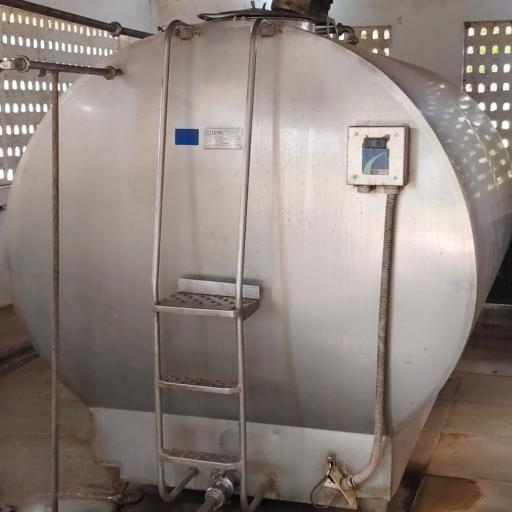silo: (2, 5, 511, 510)
